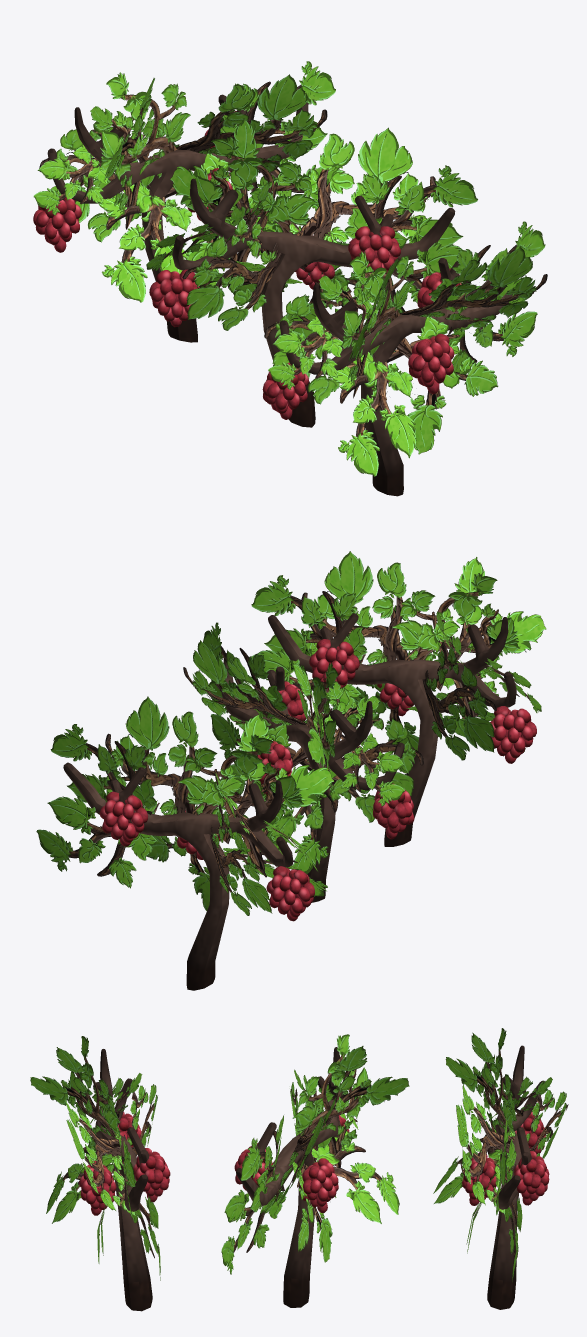
File: Grapevine.fbx
The picture shows the model from 3 angles, top to bottom: view 1: azimuth 30°, elevation 25°; view 2: azimuth 150°, elevation 25°; view 3: azimuth 270°, elevation 25°; orthographic projection. The views are drawn at different scales.
Visible parts, largest first — view 1: GrapeTreesReady_GrapevineMat_0, GrapeTreesReady_GrapeTreeMat_0, GrapeTreesReady_GrapesRedMat_0; view 2: GrapeTreesReady_GrapevineMat_0, GrapeTreesReady_GrapeTreeMat_0, GrapeTreesReady_GrapesRedMat_0; view 3: GrapeTreesReady_GrapevineMat_0, GrapeTreesReady_GrapeTreeMat_0, GrapeTreesReady_GrapesRedMat_0.
Boxes of the visible parts, x1,y1,x2,y2 form: GrapeTreesReady_GrapevineMat_0: (33,61,547,476); GrapeTreesReady_GrapeTreeMat_0: (47,94,512,496); GrapeTreesReady_GrapesRedMat_0: (33,111,461,419); GrapeTreesReady_GrapevineMat_0: (36,551,546,915); GrapeTreesReady_GrapeTreeMat_0: (63,613,516,990); GrapeTreesReady_GrapesRedMat_0: (99,639,536,921); GrapeTreesReady_GrapevineMat_0: (30,1028,568,1282); GrapeTreesReady_GrapeTreeMat_0: (93,1045,544,1311); GrapeTreesReady_GrapesRedMat_0: (79,1112,549,1215).
Size of the model in its own units: 161 by 143 by 264.
